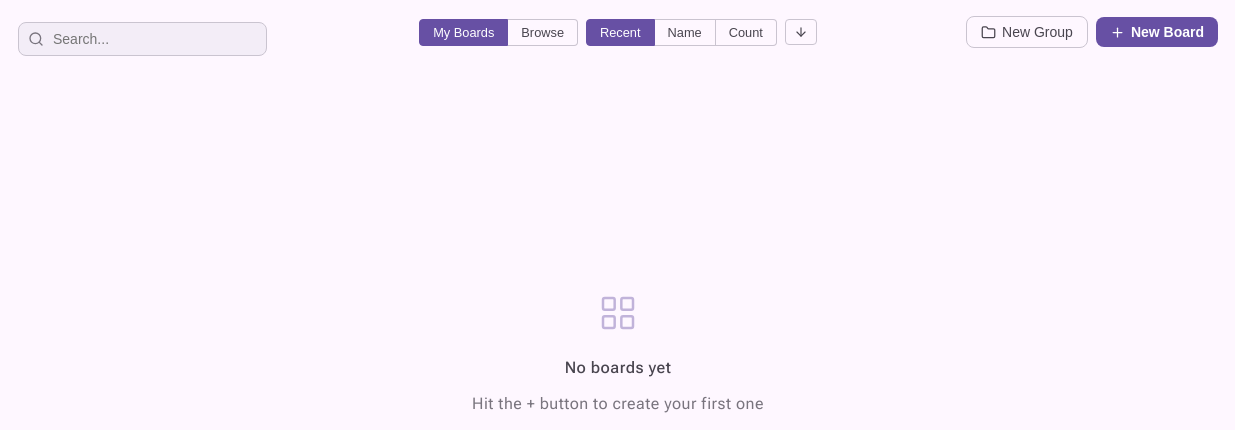
BoardSelector — Browse tab template filter › shows only template boards when Browse tab is active
This screenshot has width=1235, height=430.
Click the button "Browse" at (543, 32), box [508, 18, 578, 46]
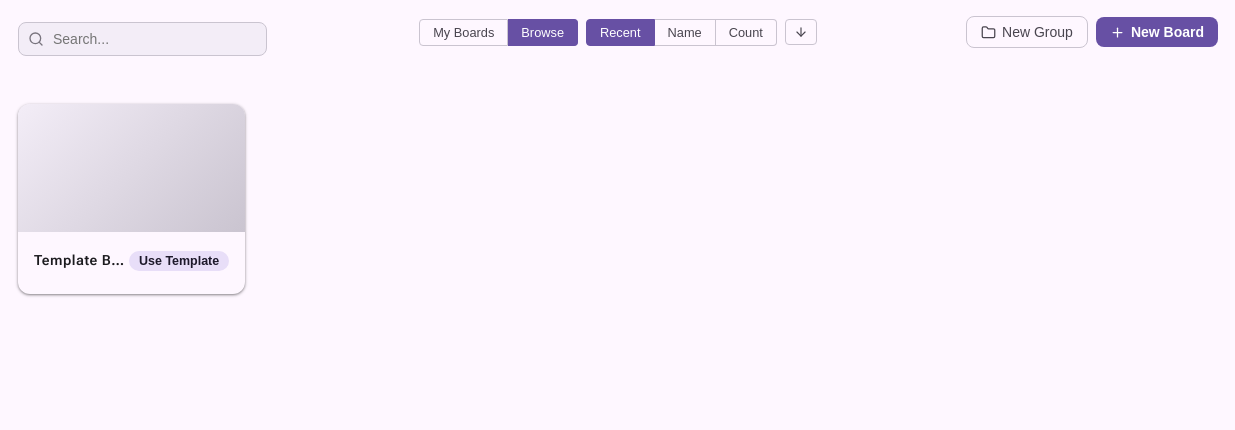
Expected: the text "Template Board" is shown, [34, 252, 143, 268]
